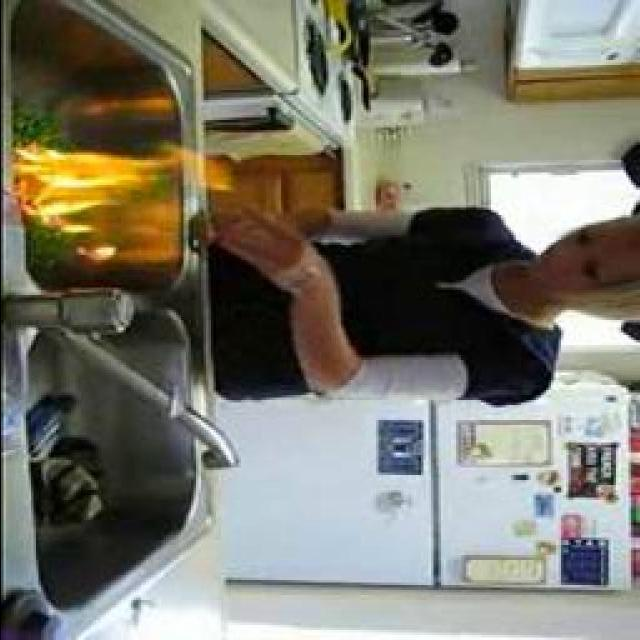Fire: (12, 140, 200, 225)
